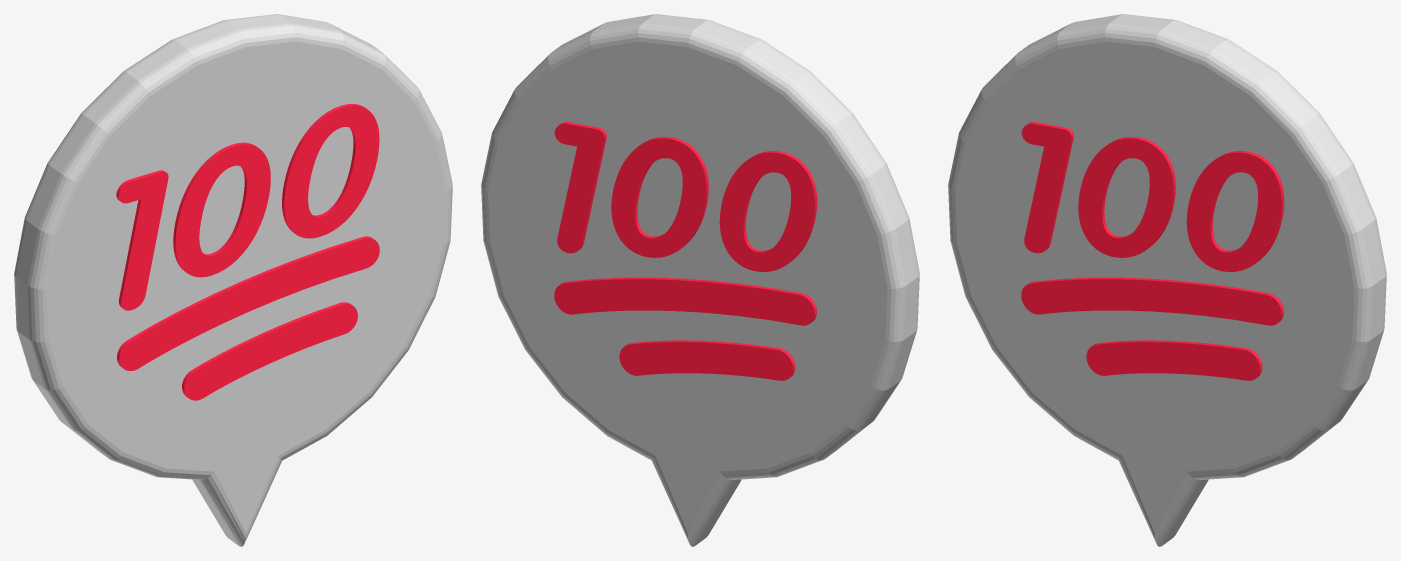
The model's file is hundred_points.glb.
The picture shows the model from 3 angles, left to right: view 1: azimuth 30°, elevation 25°; view 2: azimuth 150°, elevation 25°; view 3: azimuth 330°, elevation 25°; orthographic projection.
Visible parts, largest first — view 1: EmotionBubble; view 2: EmotionBubble; view 3: EmotionBubble.
Part boxes in pixels (x1=…): EmotionBubble: x1=14, y1=14, x2=452, y2=546; EmotionBubble: x1=481, y1=14, x2=919, y2=546; EmotionBubble: x1=948, y1=14, x2=1386, y2=546.
Size of the model in its own units: 5.29 by 6.16 by 0.694.
